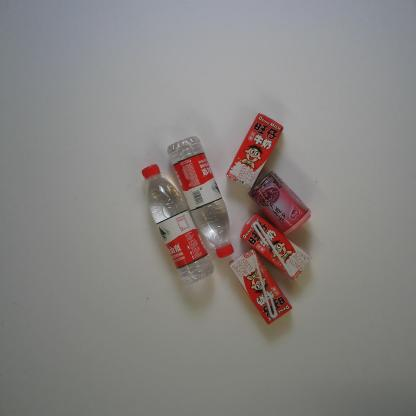Canned Food: (246, 170, 312, 237)
Drink: (141, 164, 215, 286), (167, 135, 235, 259)
Milk: (239, 213, 312, 282), (228, 249, 293, 325), (226, 112, 284, 190)
